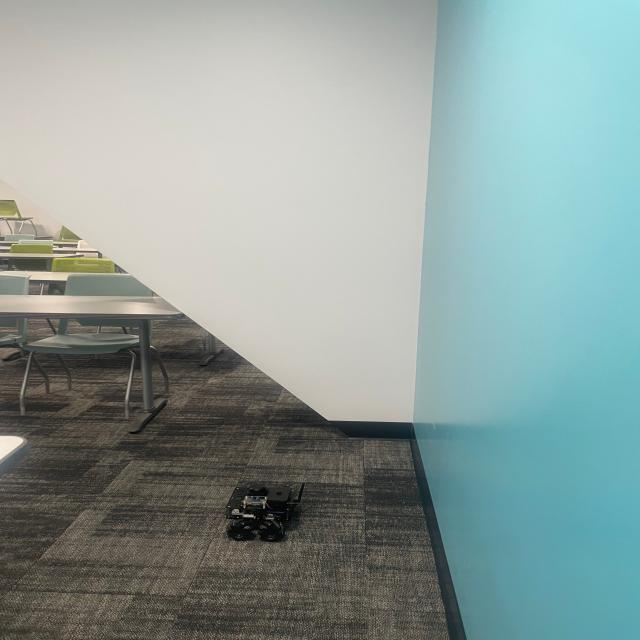ArduinoCar3: (216, 478, 308, 544)
